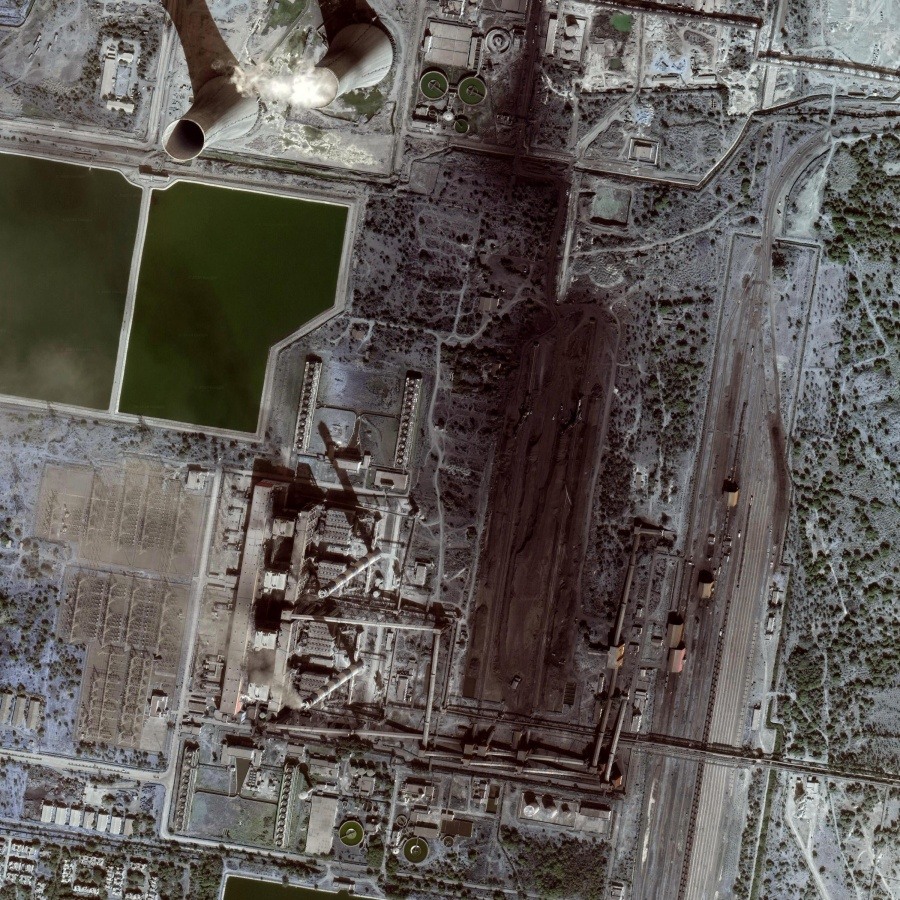PowerPlant: (230, 274, 673, 782)
